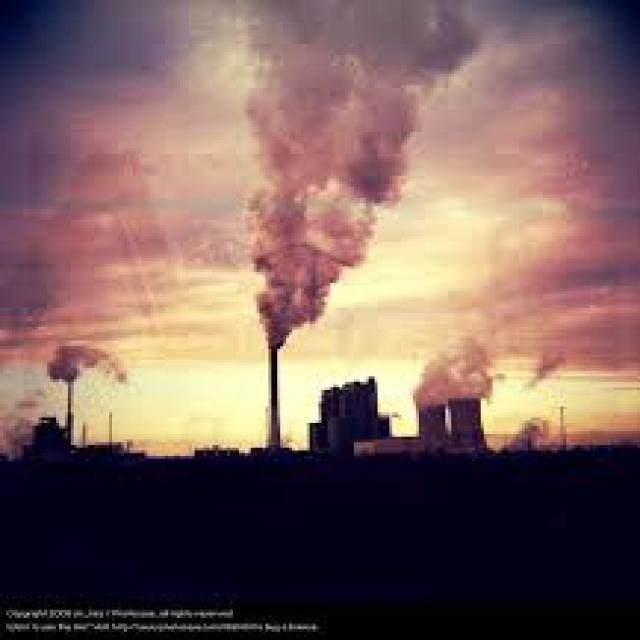Smoke: (242, 0, 481, 349), (411, 334, 508, 417), (49, 346, 130, 388)
